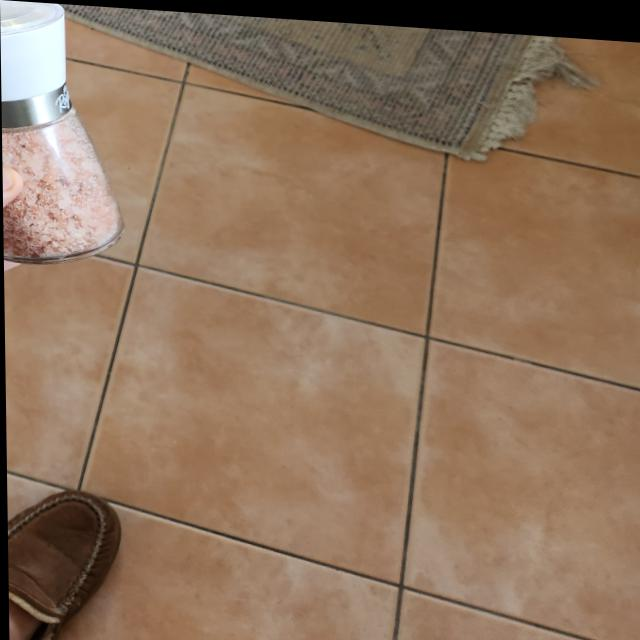salt: (0, 0, 126, 267)
